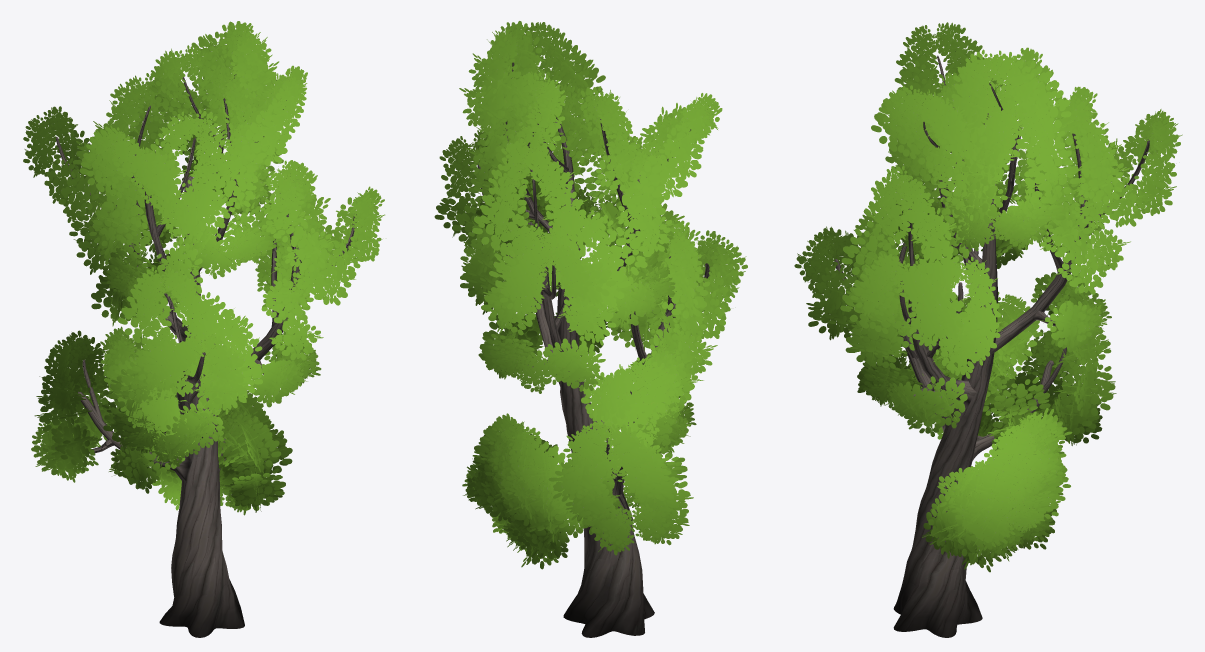
File: tree9a.glb
3 views of the same model, side by side, from view 1: azimuth 30°, elevation 25°; view 2: azimuth 150°, elevation 25°; view 3: azimuth 270°, elevation 25° (orthographic). The views are drawn at different scales.
Visible parts, largest first — view 1: TwistedTree_4; view 2: TwistedTree_4; view 3: TwistedTree_4.
Part boxes in pixels (box(x1,y1,x2,y2)): TwistedTree_4: box(23, 21, 384, 637); TwistedTree_4: box(434, 21, 747, 637); TwistedTree_4: box(794, 22, 1182, 637).
Size of the model in its own units: 5.86 by 10.57 by 6.37.
Materials: 2 (2 with a texture image).
